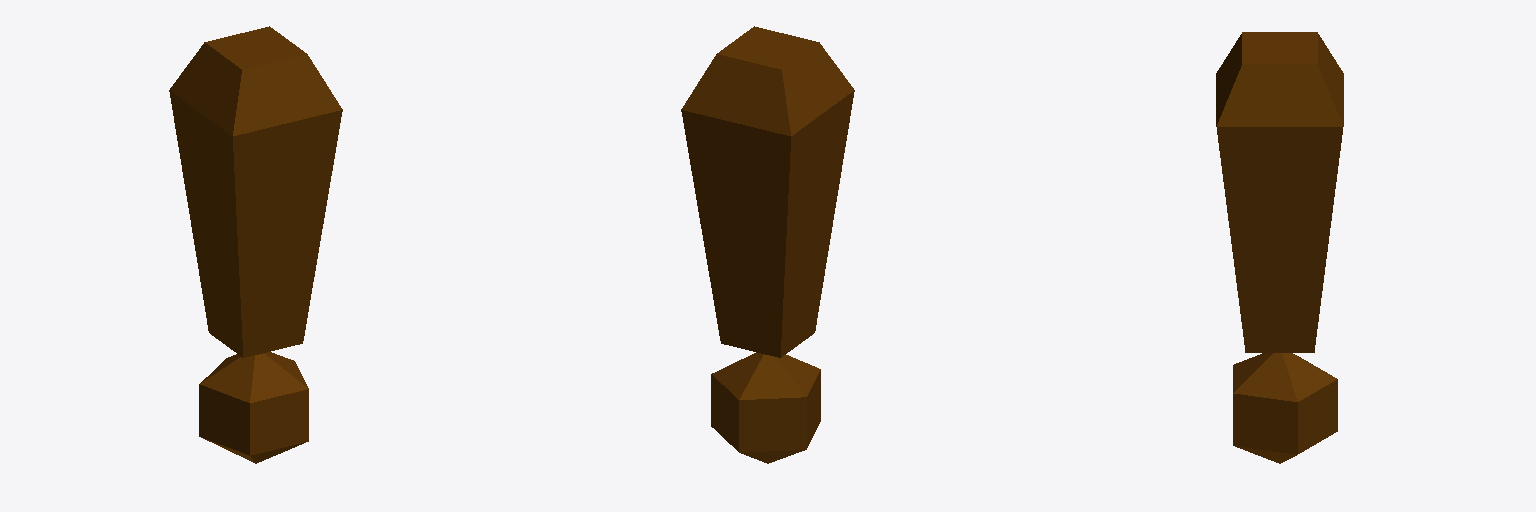
Rendered from exclamation.obj.
3 views of the same model, side by side, from view 1: azimuth 30°, elevation 25°; view 2: azimuth 150°, elevation 25°; view 3: azimuth 270°, elevation 25° (orthographic).
Visible parts, largest first — view 1: quest; view 2: quest; view 3: quest.
Part boxes in pixels (x1,y1,x2,y2): quest: (169,26,342,463); quest: (681,26,854,463); quest: (1216,32,1343,463).
Size of the model in its own units: 2.55 by 9.21 by 2.55.